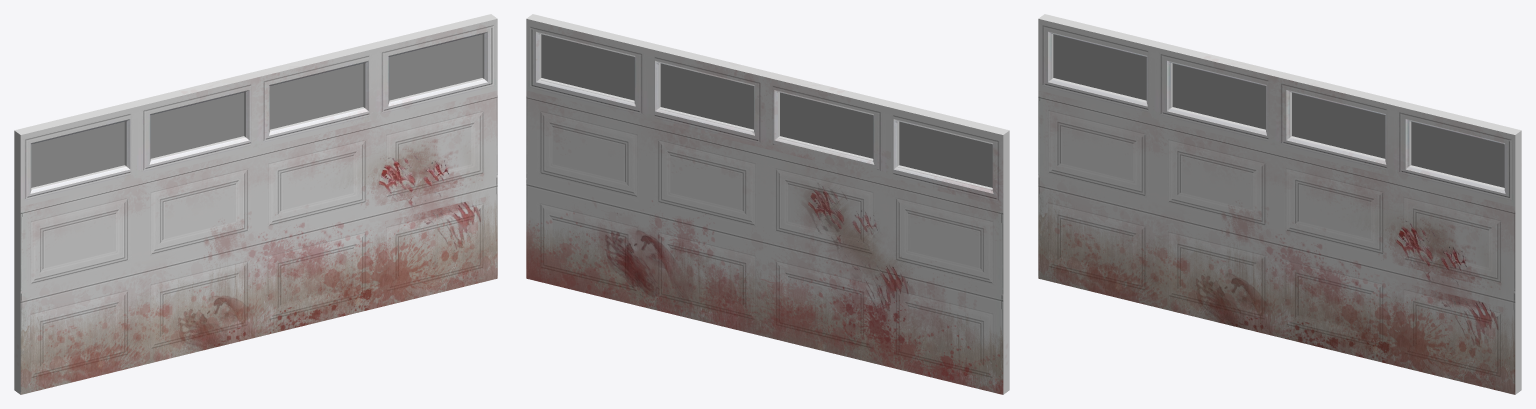
The model's file is GarageDoor.fbx.
3 views of the same model, side by side, from view 1: azimuth 30°, elevation 25°; view 2: azimuth 150°, elevation 25°; view 3: azimuth 330°, elevation 25° (orthographic).
Visible parts, largest first — view 1: pCube1, pPlane1; view 2: pCube1, pPlane1; view 3: pCube1, pPlane1.
Boxes of the visible parts, x1,y1,x2,y2 form: pCube1: [14, 14, 497, 394]; pPlane1: [31, 34, 482, 187]; pCube1: [526, 14, 1009, 394]; pPlane1: [541, 34, 992, 187]; pCube1: [1038, 14, 1521, 394]; pPlane1: [1053, 34, 1504, 187].
Bounding box in the file's own units: 408 × 212 × 9.65.
